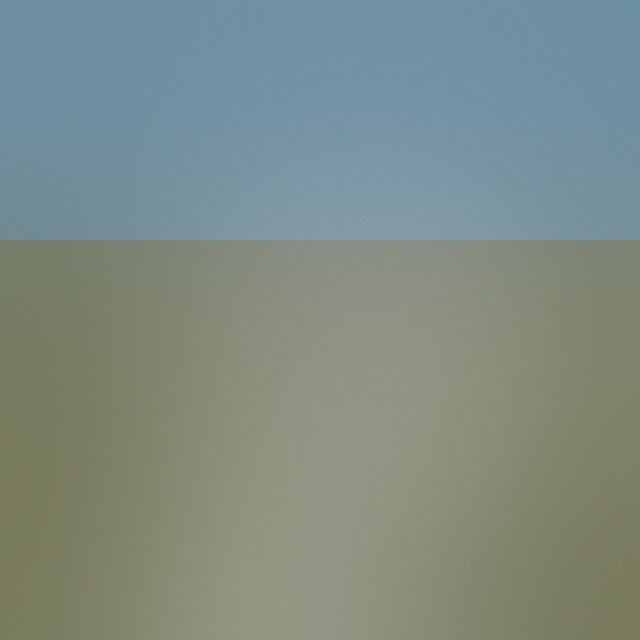smoke: (180, 264, 582, 640)
